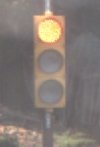Red: (27, 11, 72, 127)
